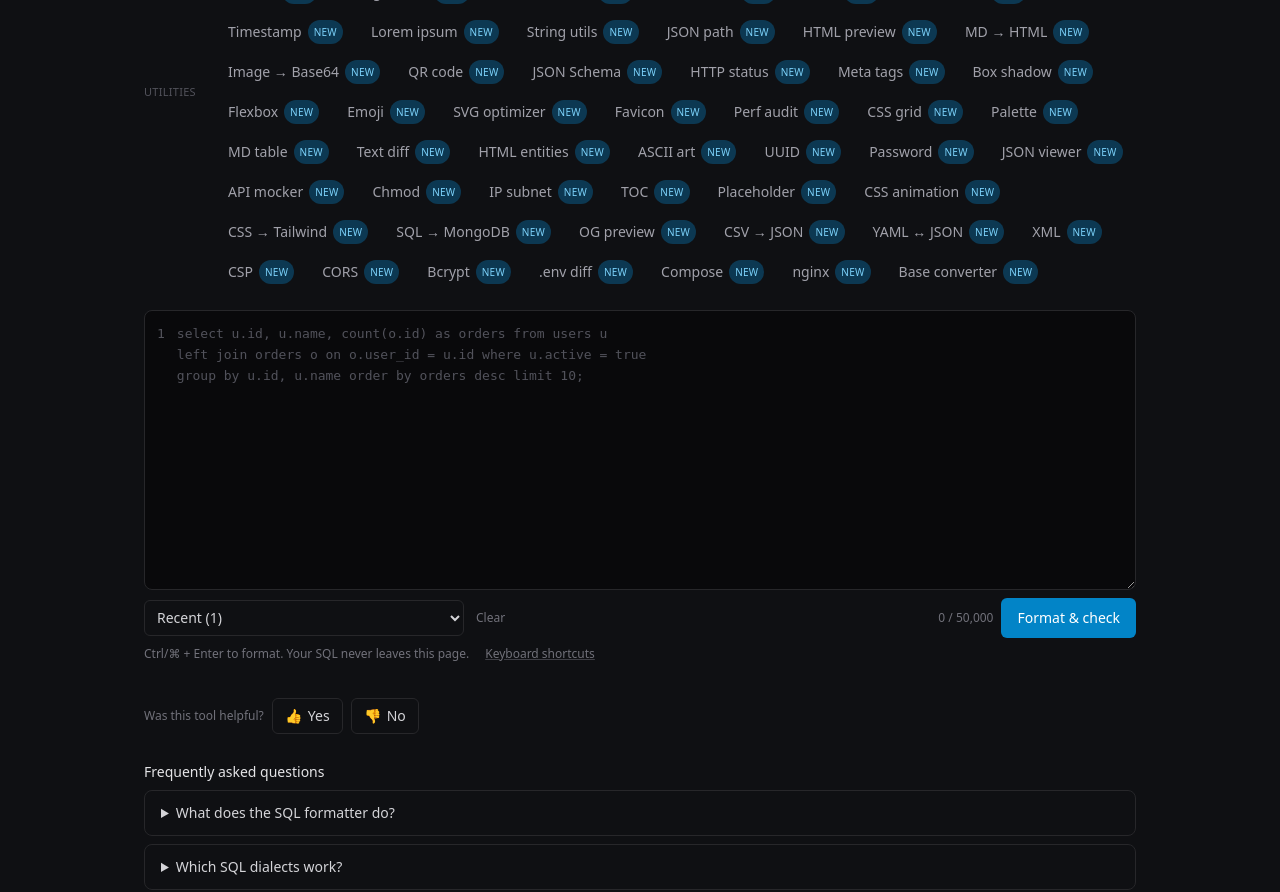
Test: SqlPage › lists problems for a broken query
(page scrolled)
Replace the text in the text box with test id "sql-in" with "select (a, from t where s = 'oops" at [654, 450], box [173,311,1135,588]
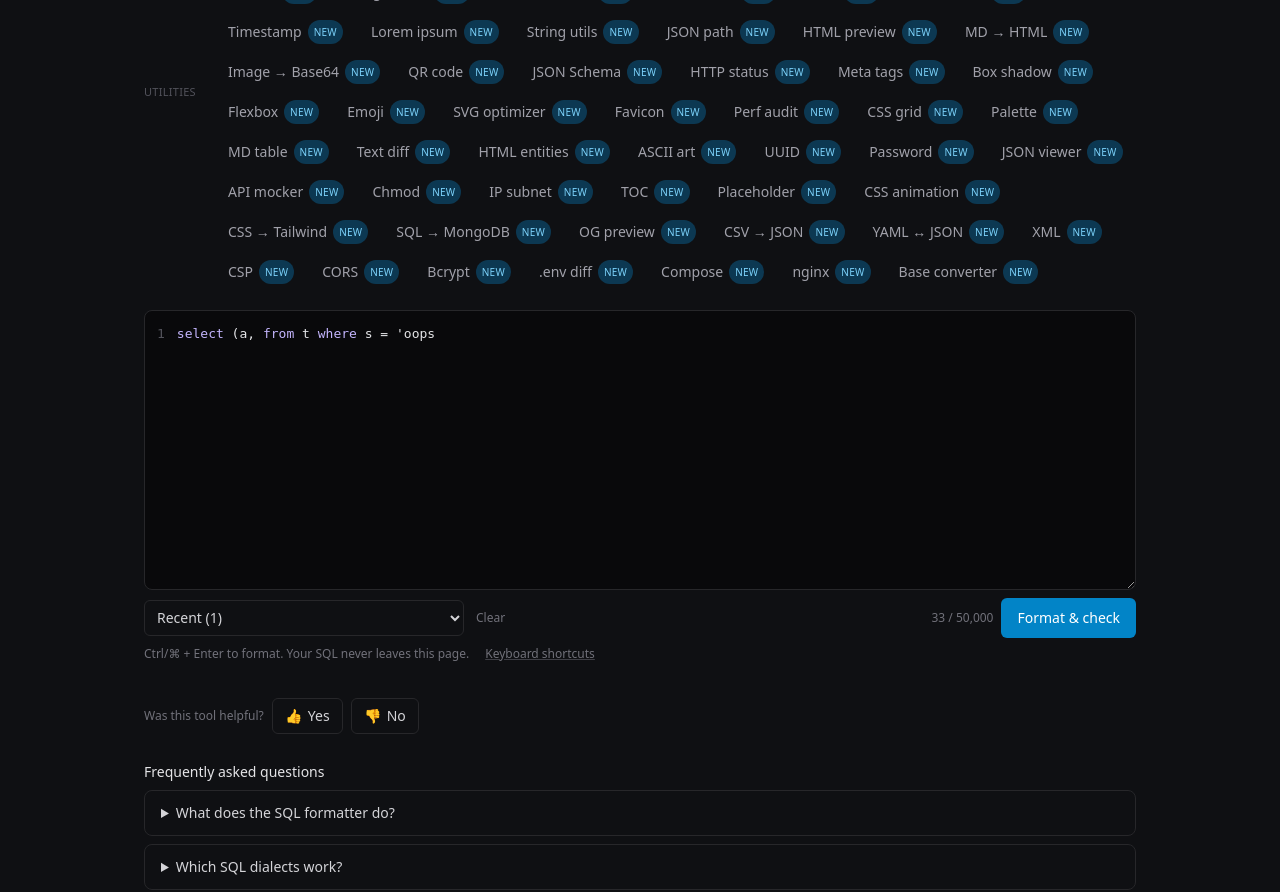
Click the button with test id "sql-run" at [1069, 618], box [1002,598,1136,638]
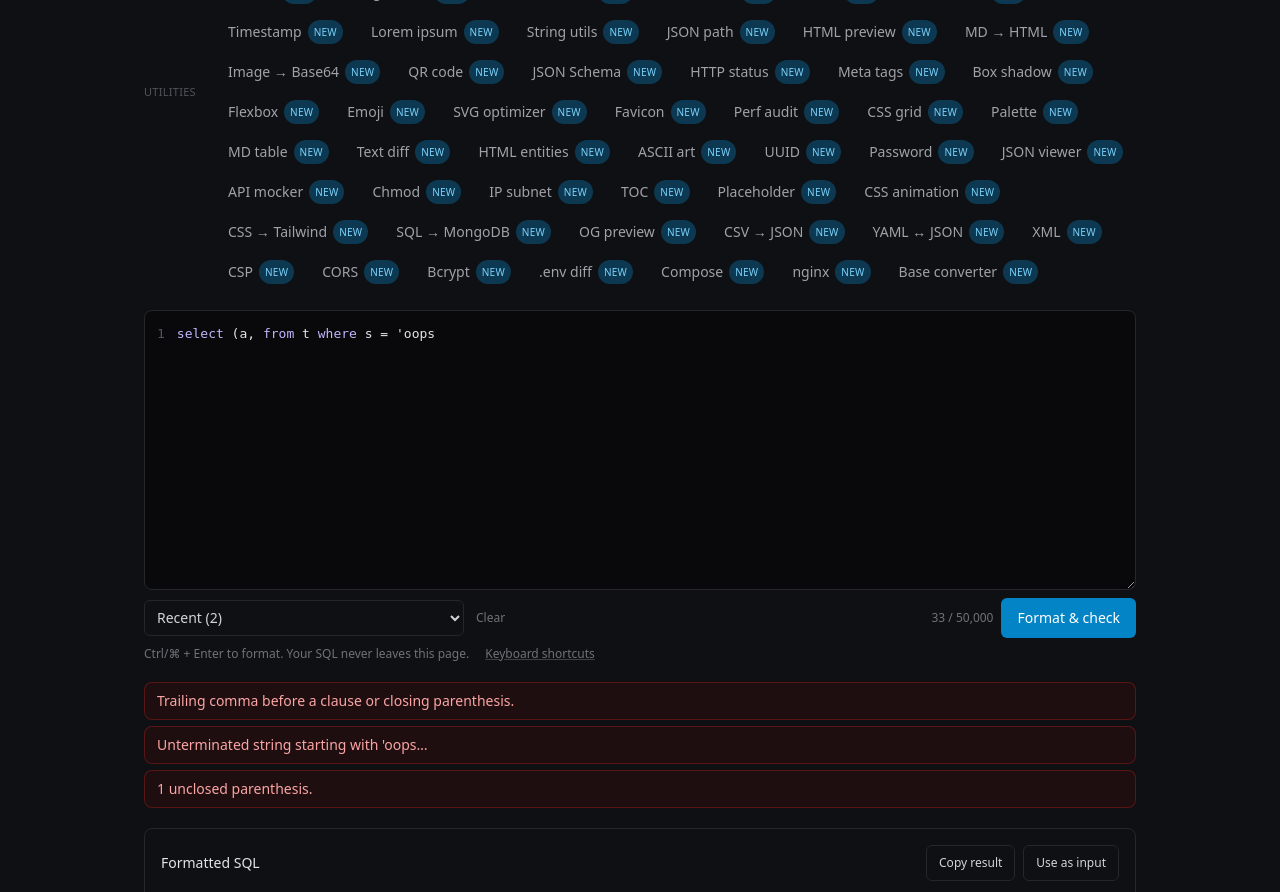
Expected: the element with test id "sql-problems" shows "Unterminated string", [157,734,428,754]
Expected: the element with test id "sql-problems" shows "unclosed parenthesis", [157,778,312,798]
